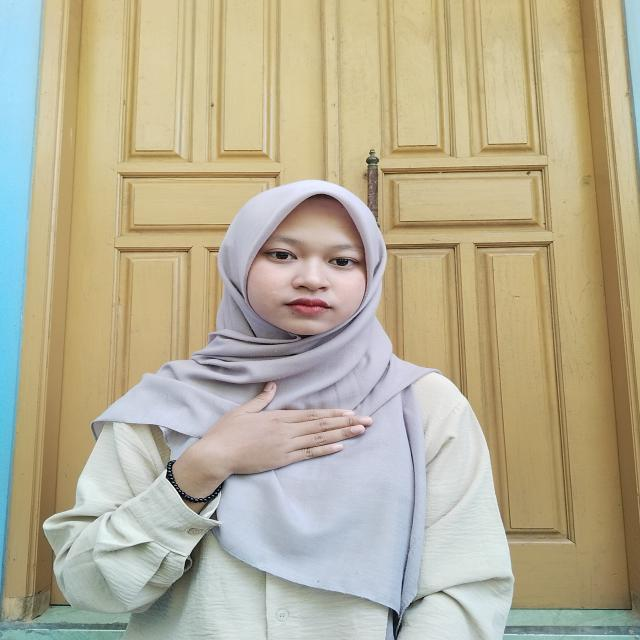tolong: (151, 378, 375, 512)
